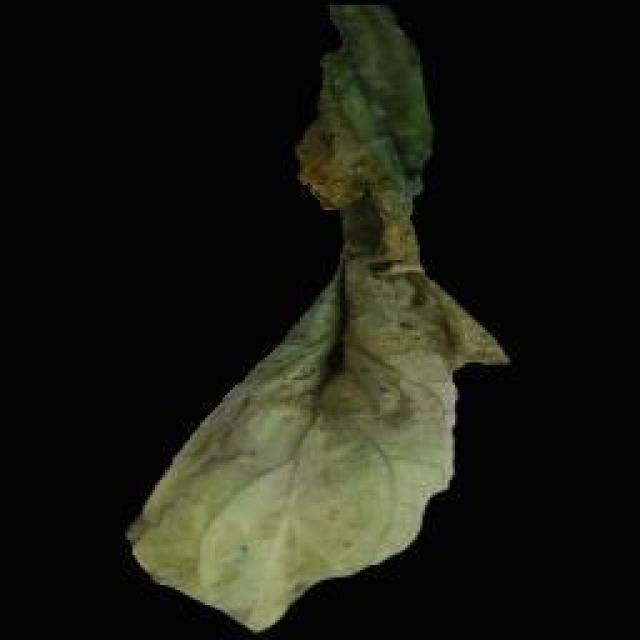Tomato Late Blight: (244, 53, 494, 497)
